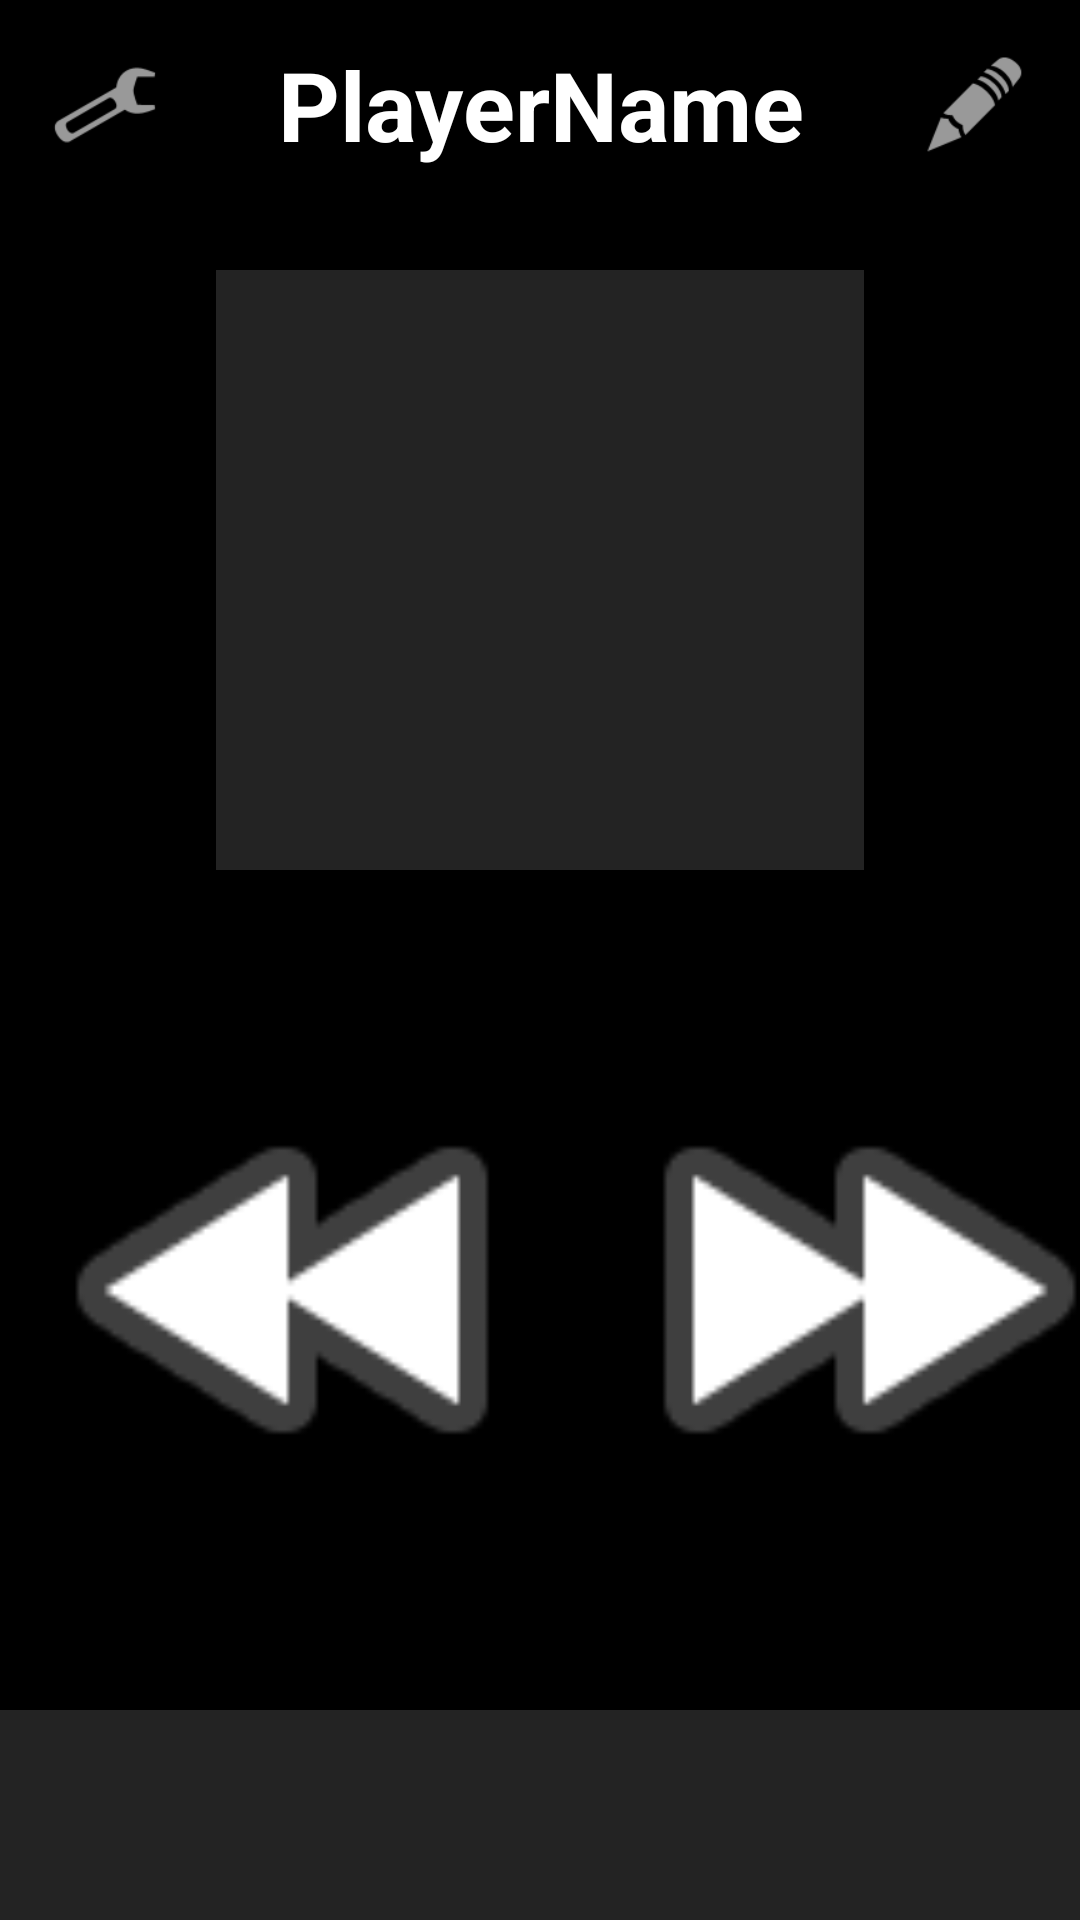

Locate icon controls on the screen. Image size 1080 × 1920, boxes as bbox(x1, y1, x2, y2).
edit: bbox(927, 57, 1022, 152)
manage: bbox(54, 67, 155, 143)
